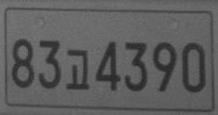0: (180, 41, 206, 92)
3: (38, 39, 61, 90), (124, 41, 147, 92)
4: (95, 40, 121, 91)
8: (10, 37, 34, 87)
9: (151, 40, 177, 91)
고: (65, 49, 90, 89)
